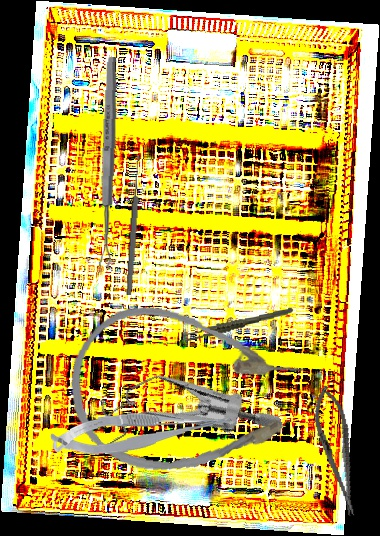Cannula: (61, 298, 311, 488)
Micro Scissor: (49, 408, 234, 458)
Needle Holder: (307, 382, 367, 520)
Speculum: (75, 329, 286, 509)
Surgical Spoon: (97, 56, 119, 268), (125, 154, 143, 296)
Tissue Forceps: (181, 307, 295, 342)
